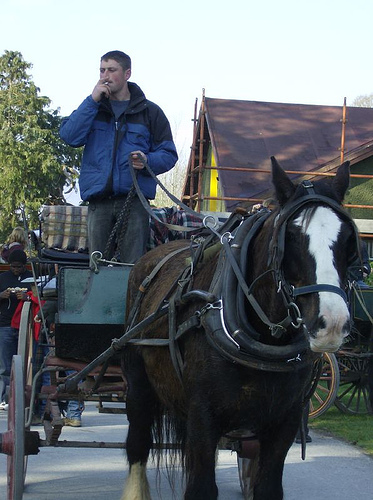horse: (114, 155, 364, 500)
